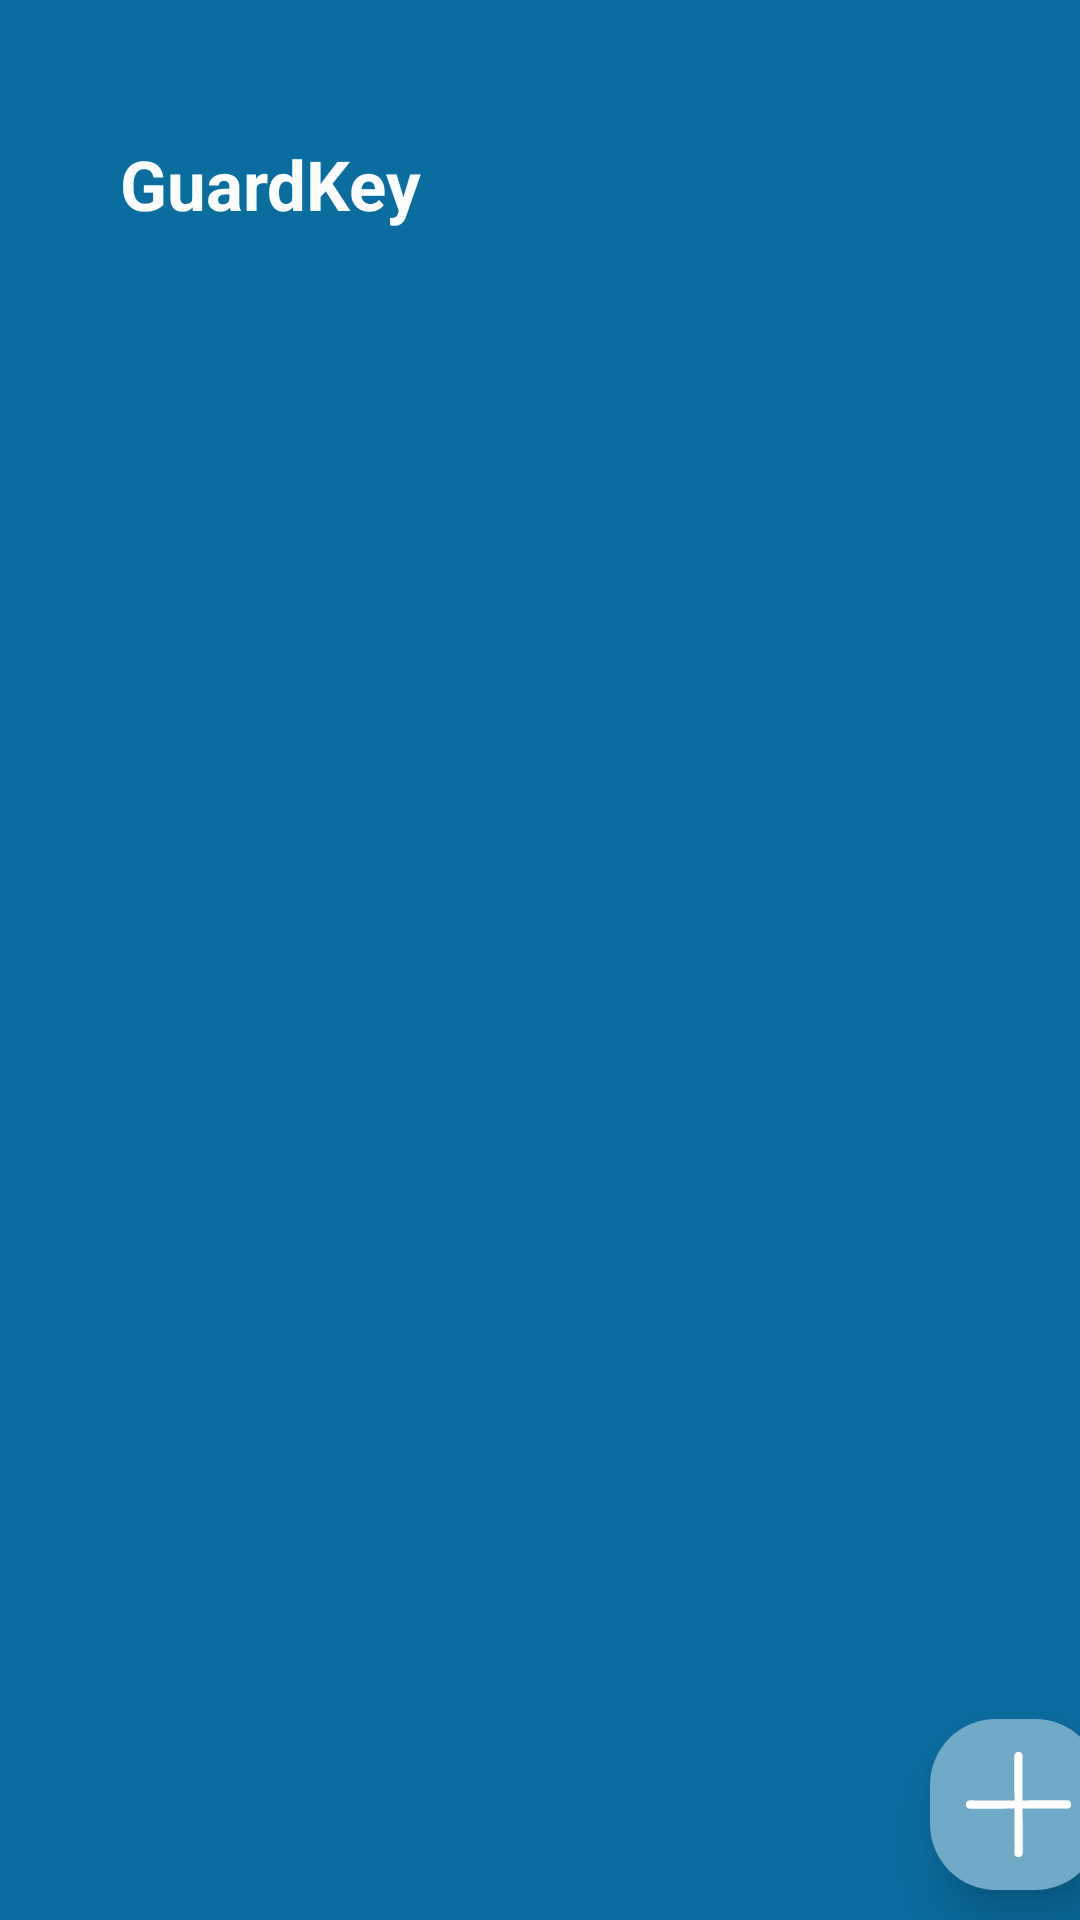

Screen size 1080px×1920px. Icon name, then its box in pixels as (x1, y1, x2, y2):
plus: (966, 1752, 1071, 1857)
